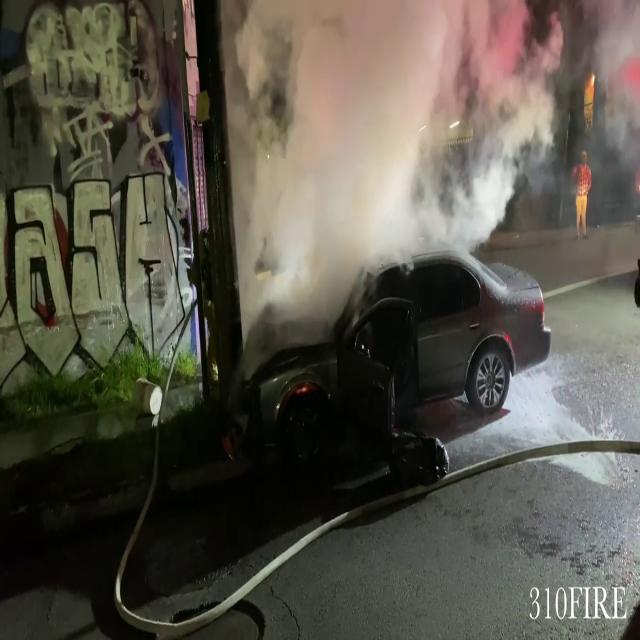Smoke: (228, 0, 551, 286)
